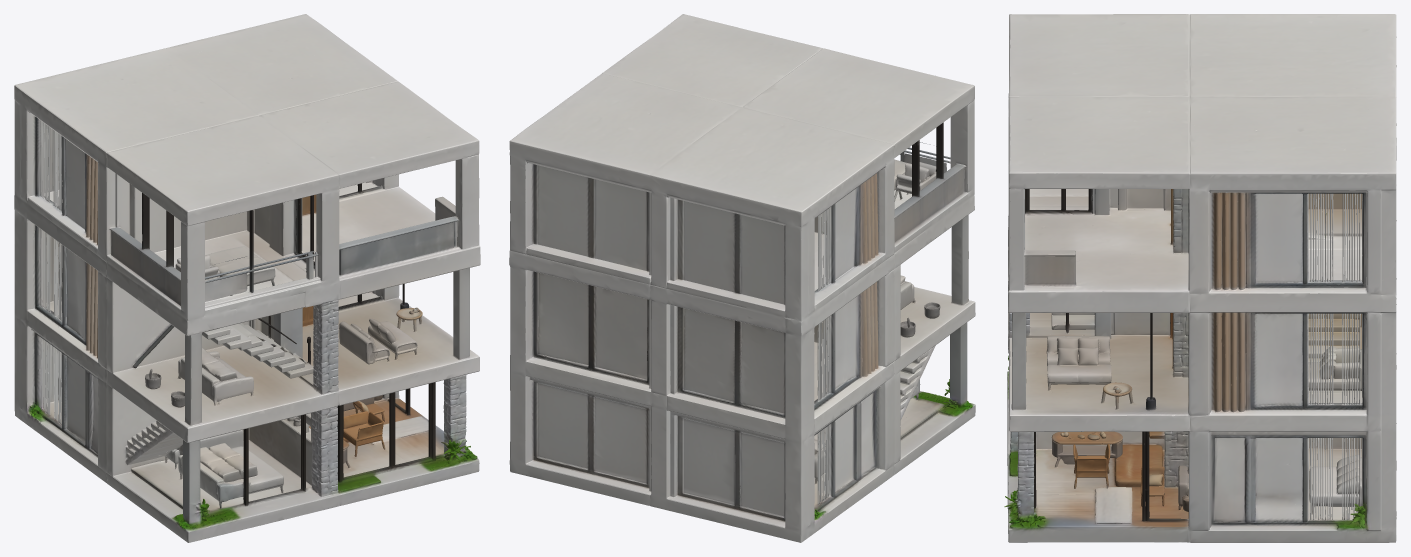
Rendered from hyper3d-original.glb.
3 views of the same model, side by side, from view 1: azimuth 30°, elevation 25°; view 2: azimuth 150°, elevation 25°; view 3: azimuth 270°, elevation 25° (orthographic). The views are drawn at different scales.
Visible parts, largest first — view 1: model; view 2: model; view 3: model.
Boxes of the visible parts, box(x1,y1,x2,y2) form: model: box(14, 14, 480, 542); model: box(509, 14, 975, 542); model: box(1004, 14, 1396, 542).
Size of the model in its own units: 1.83 by 1.91 by 1.83.
Materials: 1 (1 with a texture image).
